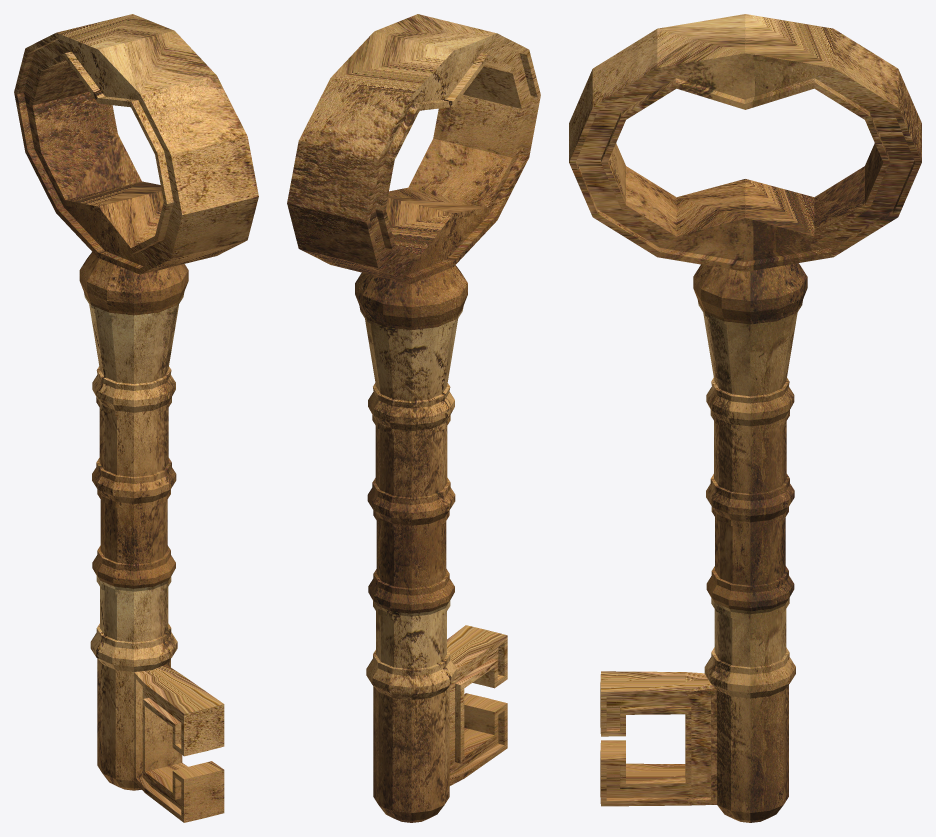
The model's file is key.fbx.
3 views of the same model, side by side, from view 1: azimuth 30°, elevation 25°; view 2: azimuth 150°, elevation 25°; view 3: azimuth 270°, elevation 25° (orthographic). The views are drawn at different scales.
Visible parts, largest first — view 1: key; view 2: key; view 3: key.
Part boxes in pixels (x1,y1,x2,y2): key: (14, 14, 258, 822); key: (287, 14, 540, 822); key: (569, 14, 921, 822).
Size of the model in its own units: 71.16 by 536 by 219.
1 material, 1 textured.
